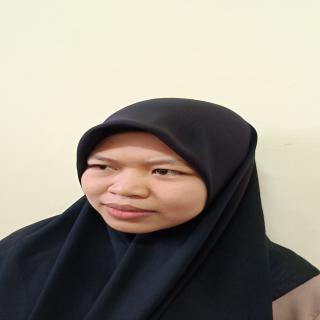Takut: (70, 118, 225, 243)
